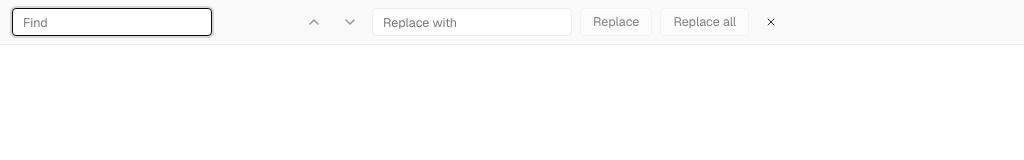
FindBar › searches what is typed, and counts the matches it is told of
Step 1. Type "plan" into the search field with placeholder "Find" → (112, 22), box [12,8,212,36]
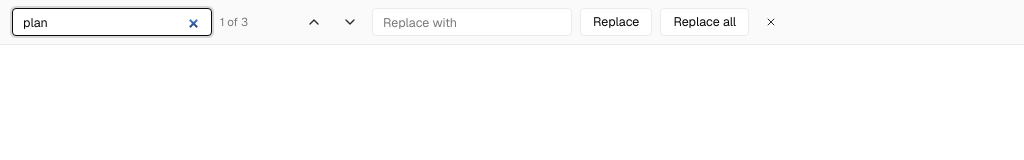
expect the text "1 of 3" is shown: met, box [220,14,248,29]
